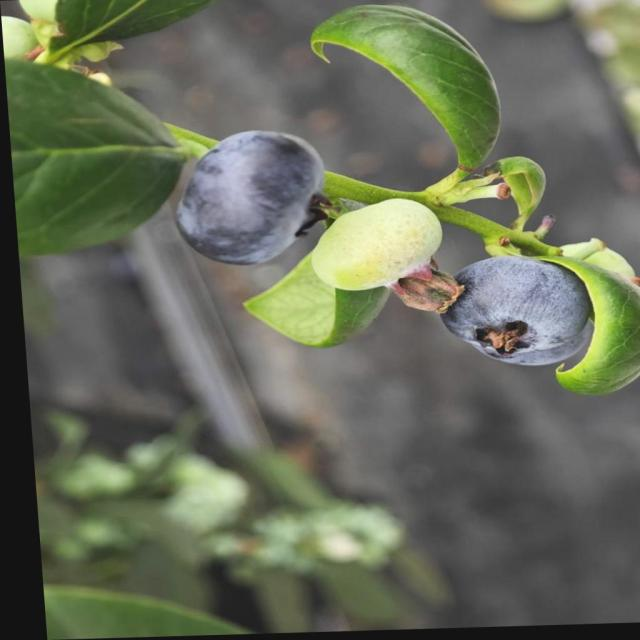RipeBlueBerry: (169, 130, 324, 268), (430, 260, 592, 371)
UnripeBlueBerry: (304, 198, 444, 290)
